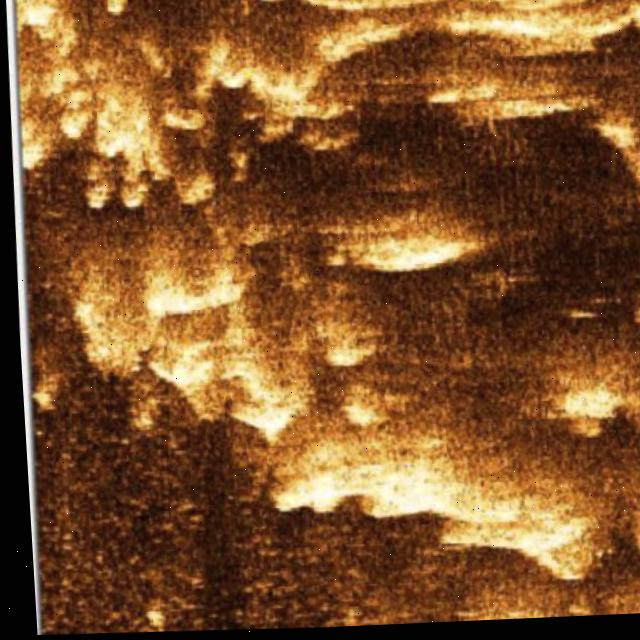bedrock group: (1, 0, 640, 640)
